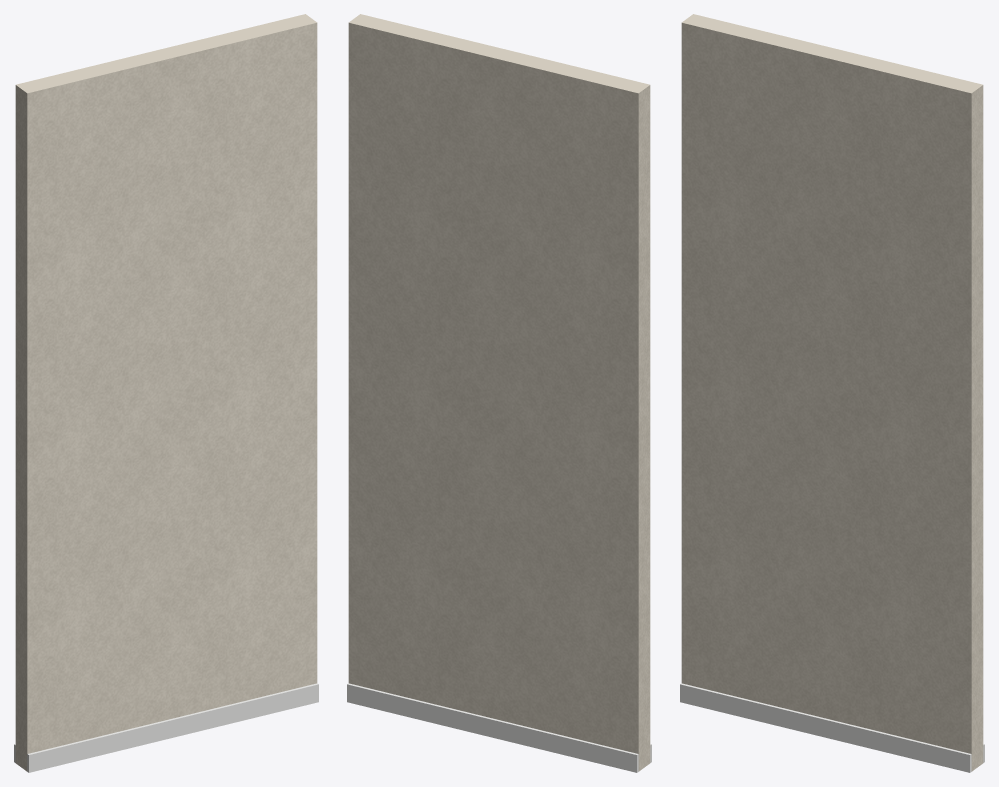
File: interior_wall_end.glb
The picture shows the model from 3 angles, left to right: view 1: azimuth 30°, elevation 25°; view 2: azimuth 150°, elevation 25°; view 3: azimuth 330°, elevation 25°; orthographic projection.
Visible parts, largest first — view 1: interior_wall_end_plaster, interior_wall_end_trim; view 2: interior_wall_end_plaster, interior_wall_end_trim; view 3: interior_wall_end_plaster, interior_wall_end_trim.
Part boxes in pixels (x1=…): interior_wall_end_plaster: x1=15, y1=14, x2=317, y2=771; interior_wall_end_trim: x1=14, y1=683, x2=318, y2=772; interior_wall_end_plaster: x1=348, y1=14, x2=650, y2=771; interior_wall_end_trim: x1=347, y1=683, x2=651, y2=772; interior_wall_end_plaster: x1=681, y1=14, x2=983, y2=771; interior_wall_end_trim: x1=680, y1=683, x2=984, y2=772.
Size of the model in its own units: 1.7 by 3.8 by 0.15.
2 materials, 1 textured.
